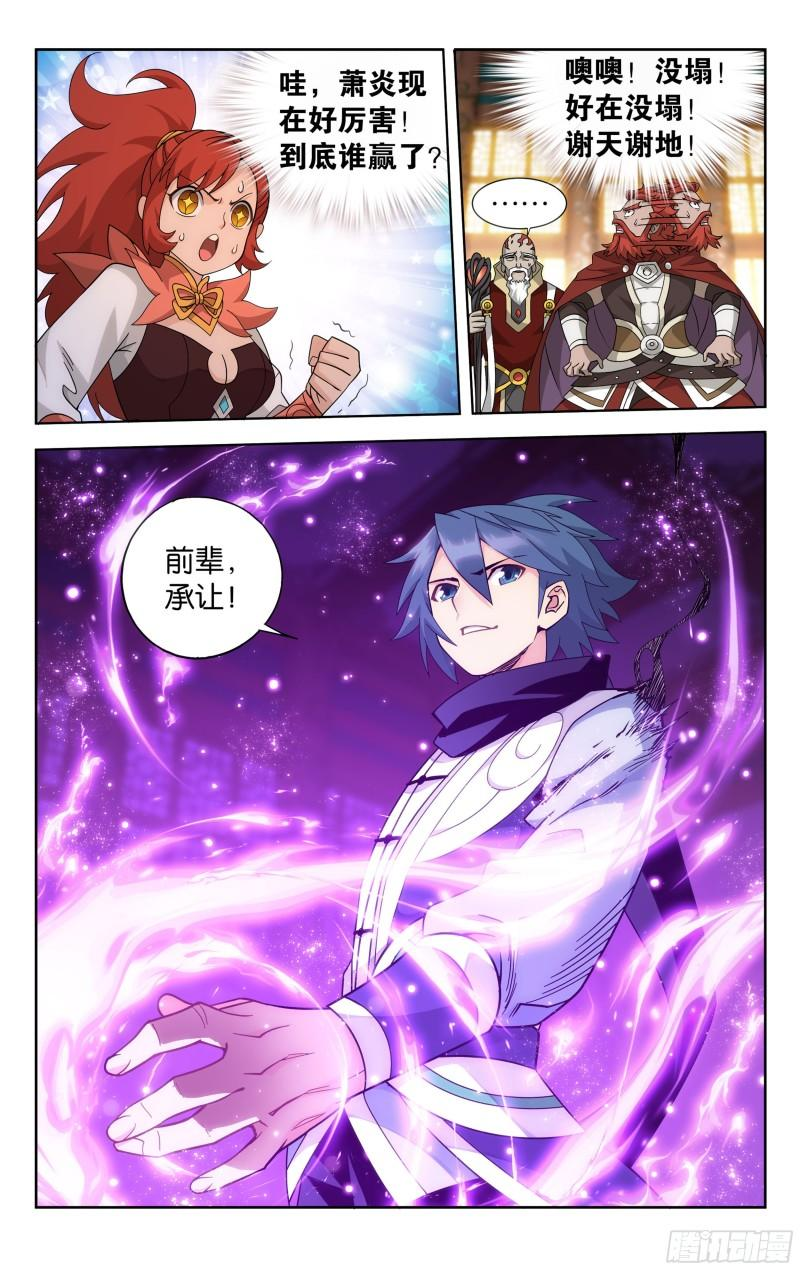boxEllipse: (114, 491, 291, 661), (468, 173, 570, 233)
boxFlash: (483, 41, 771, 197), (216, 41, 453, 221)
minBox: (27, 419, 771, 1222), (27, 41, 460, 430), (447, 35, 774, 425)
